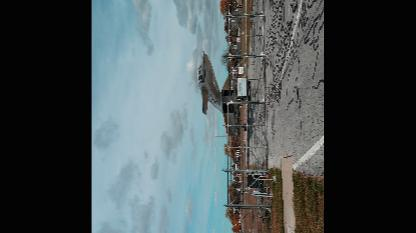U2: (197, 50, 249, 182)
